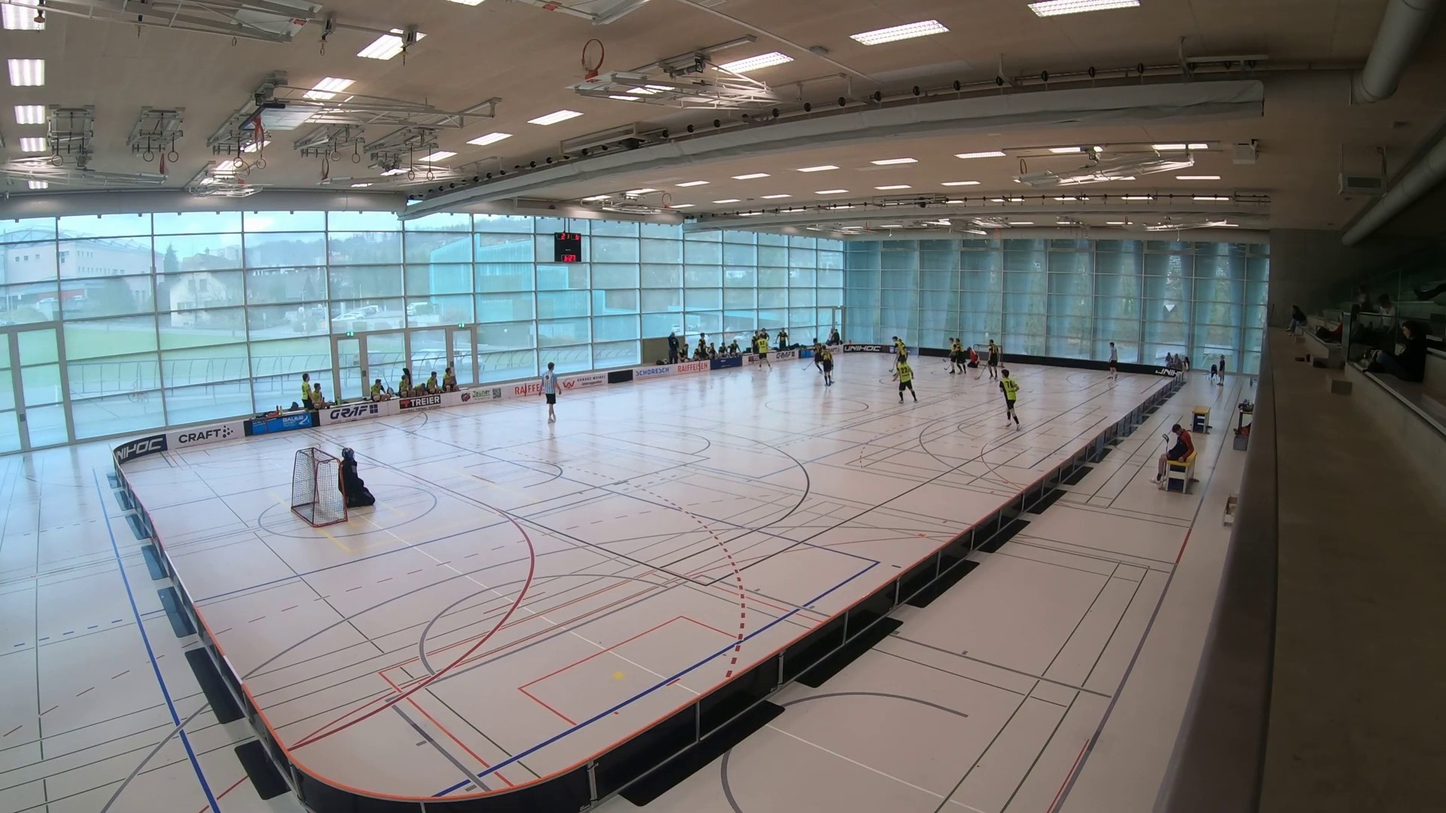goalkeeper: (324, 442, 379, 516), (966, 346, 982, 379)
player: (999, 369, 1020, 430), (892, 356, 917, 402), (755, 330, 770, 369), (987, 339, 1001, 379), (819, 346, 833, 385), (950, 338, 964, 373), (812, 337, 823, 373), (892, 336, 906, 361), (1218, 354, 1225, 385), (1210, 363, 1218, 383)
